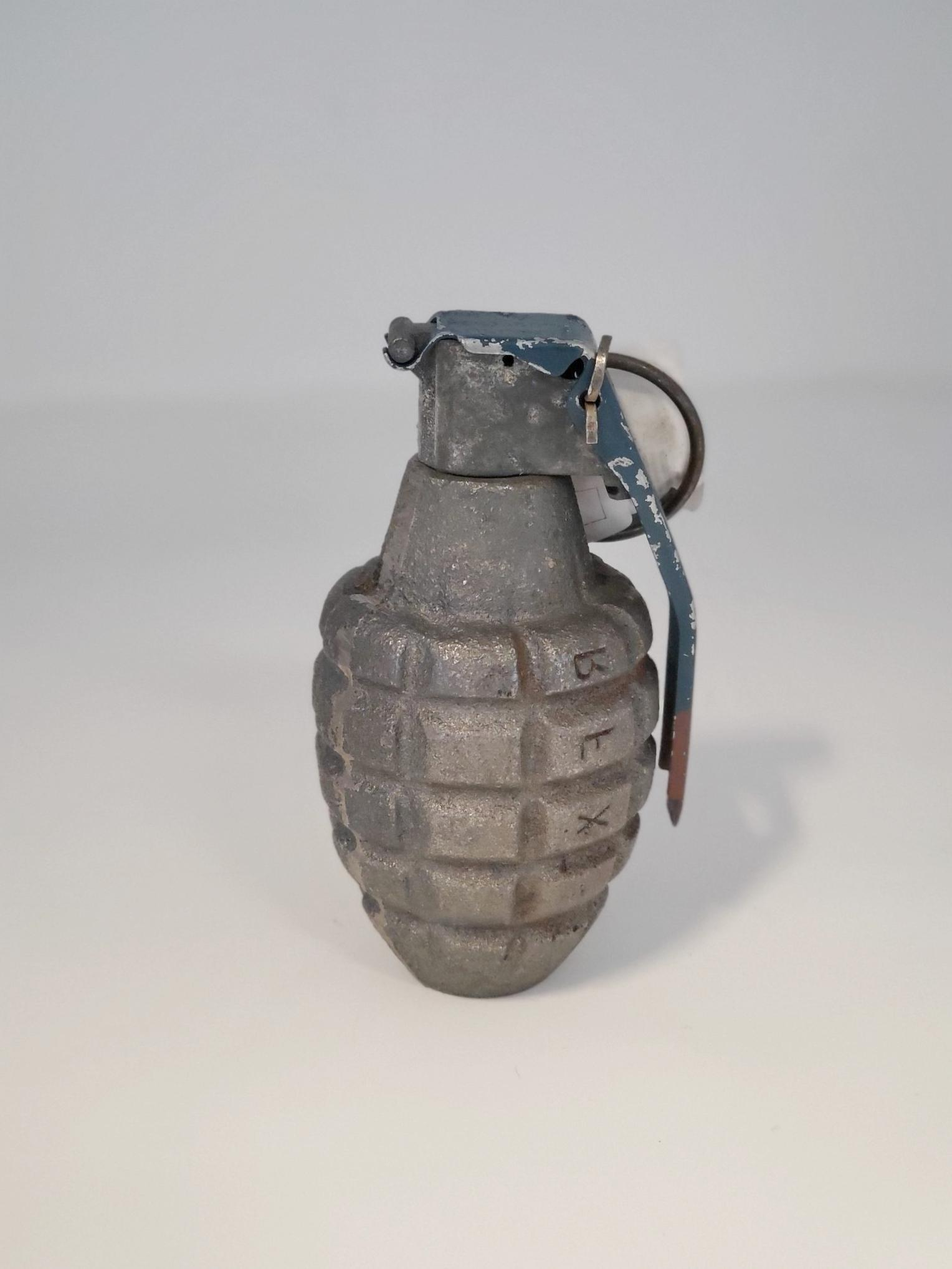Grenade: (313, 312, 699, 1002)
